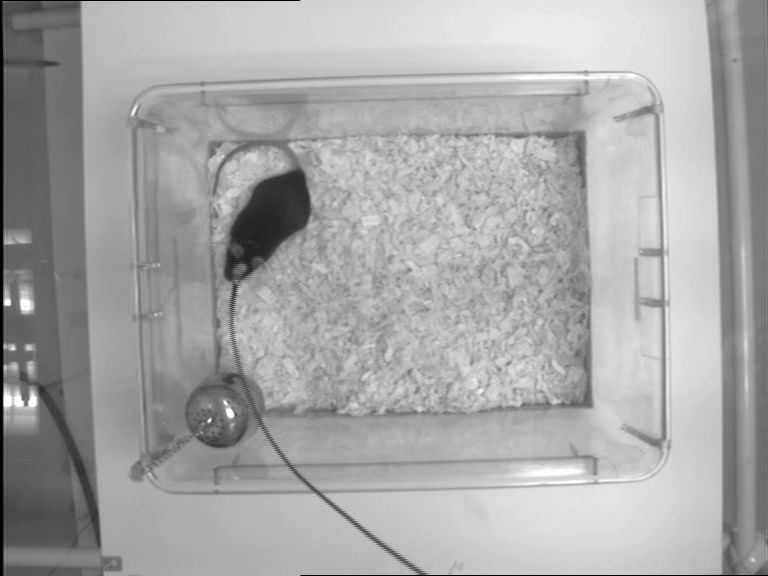mice: (211, 138, 312, 277)
